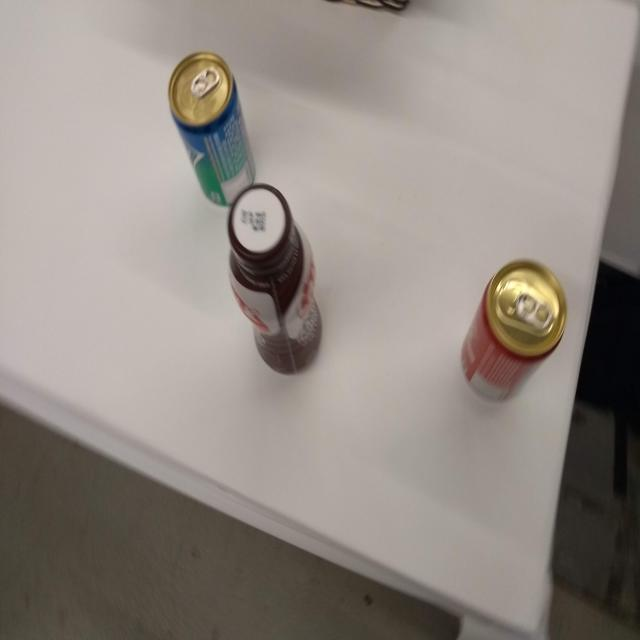chocolate_drink: (222, 180, 329, 380)
coke: (456, 252, 570, 408)
sprite: (164, 45, 262, 211)
